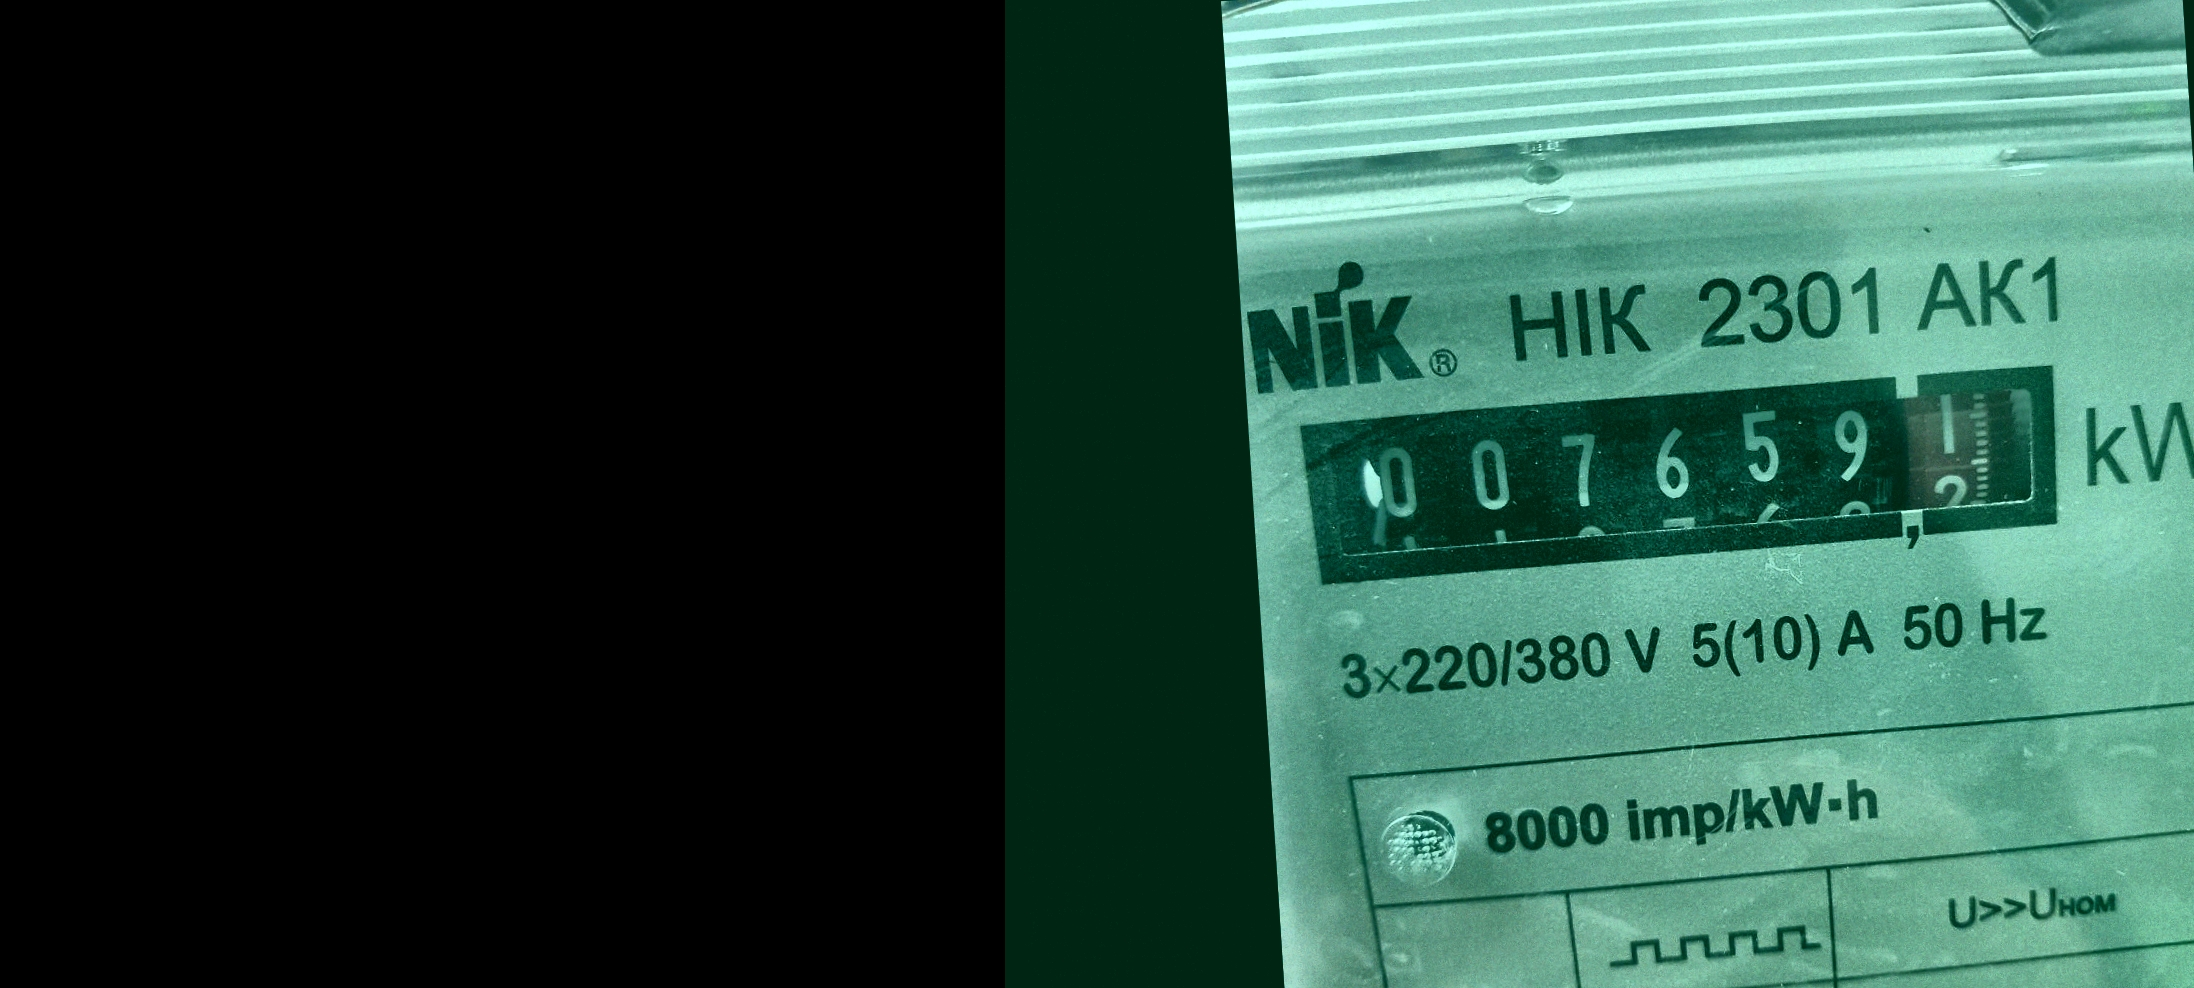0: (1459, 428, 1520, 516), (1371, 435, 1427, 528)
1: (1931, 385, 1969, 462)
5: (1736, 403, 1787, 487)
6: (1643, 417, 1699, 502)
7: (1557, 425, 1604, 514)
9: (1829, 400, 1876, 490)
screen: (1280, 341, 2086, 606)
